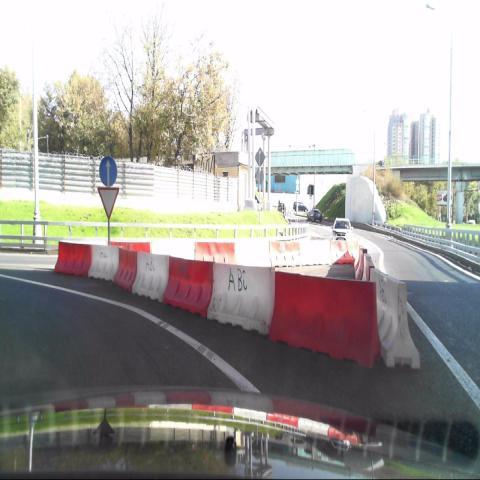2_4: (97, 185, 119, 221)
4_1_1: (99, 154, 119, 188)
